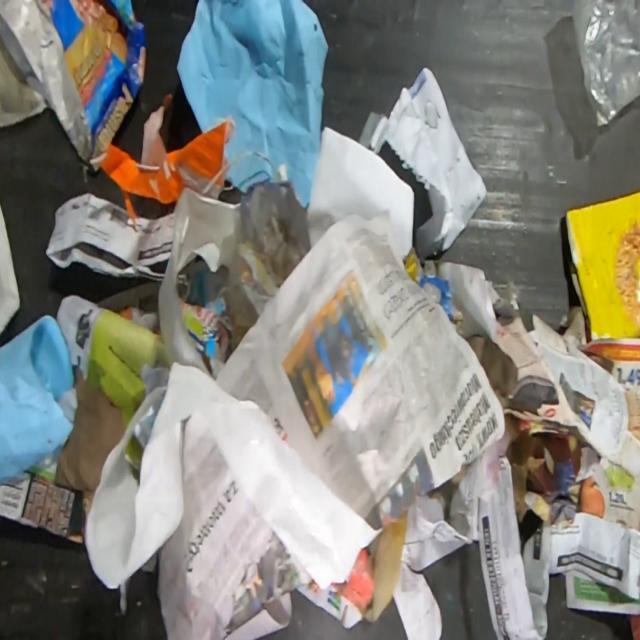cardboard: (0, 0, 147, 164), (294, 505, 409, 630), (564, 190, 640, 340), (0, 444, 94, 546)
soft_plastic: (88, 104, 236, 219)
